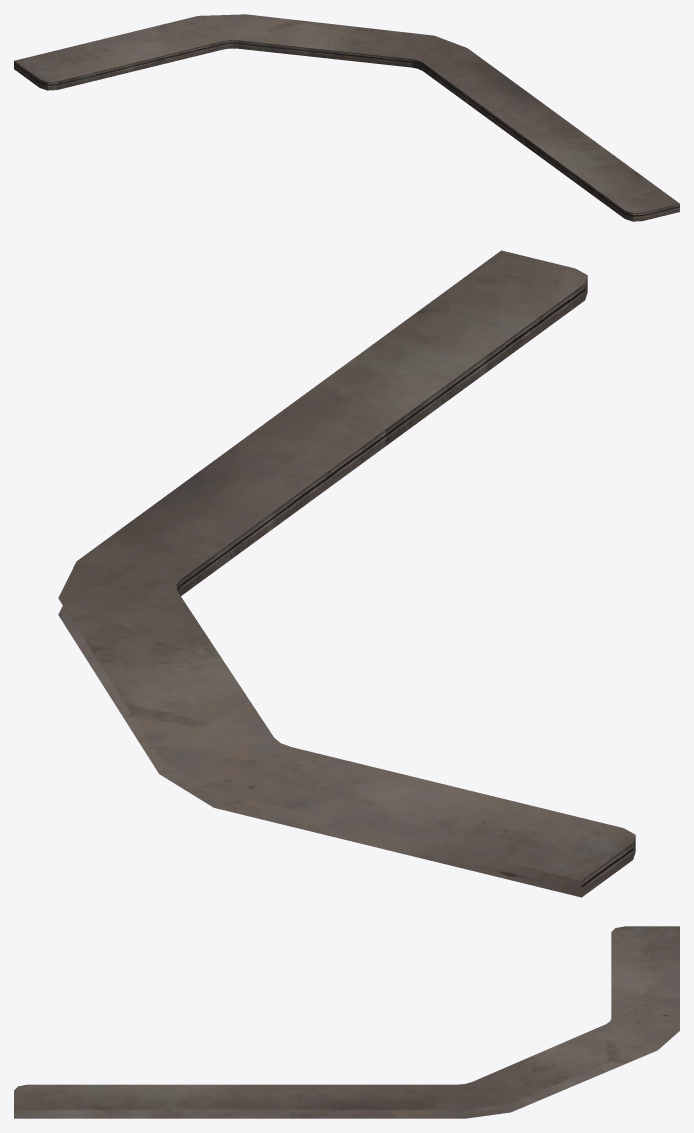
File: shelf_security_office.dae
3 views of the same model, one above another, from view 1: azimuth 30°, elevation 25°; view 2: azimuth 150°, elevation 25°; view 3: azimuth 270°, elevation 25° (orthographic). The views are drawn at different scales.
Parts seen in each view (by area): view 1: Mesh; view 2: Mesh; view 3: Mesh.
Part boxes in pixels (x1=…): Mesh: x1=14, y1=14, x2=679, y2=221; Mesh: x1=58, y1=250, x2=635, y2=897; Mesh: x1=14, y1=926, x2=679, y2=1118.
Size of the model in its own units: 3.36 by 0.0761 by 5.16.
